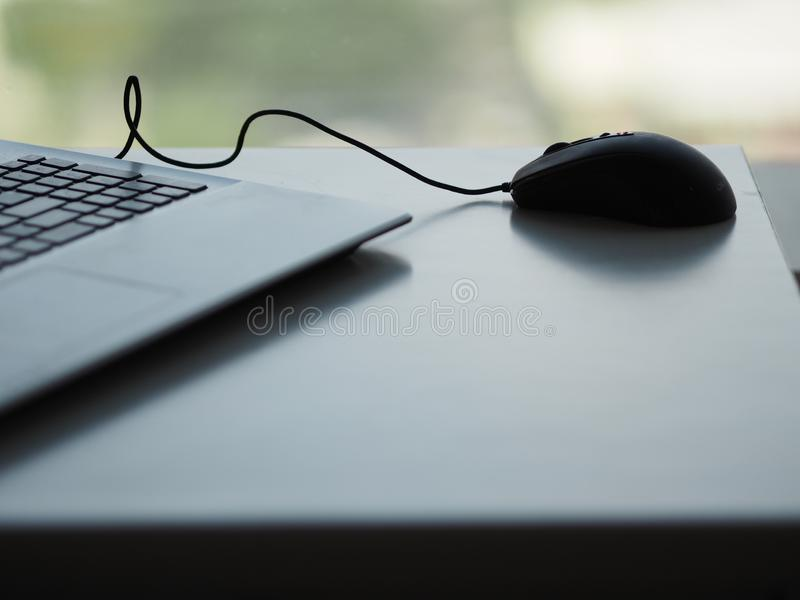mouse: (446, 102, 772, 253)
